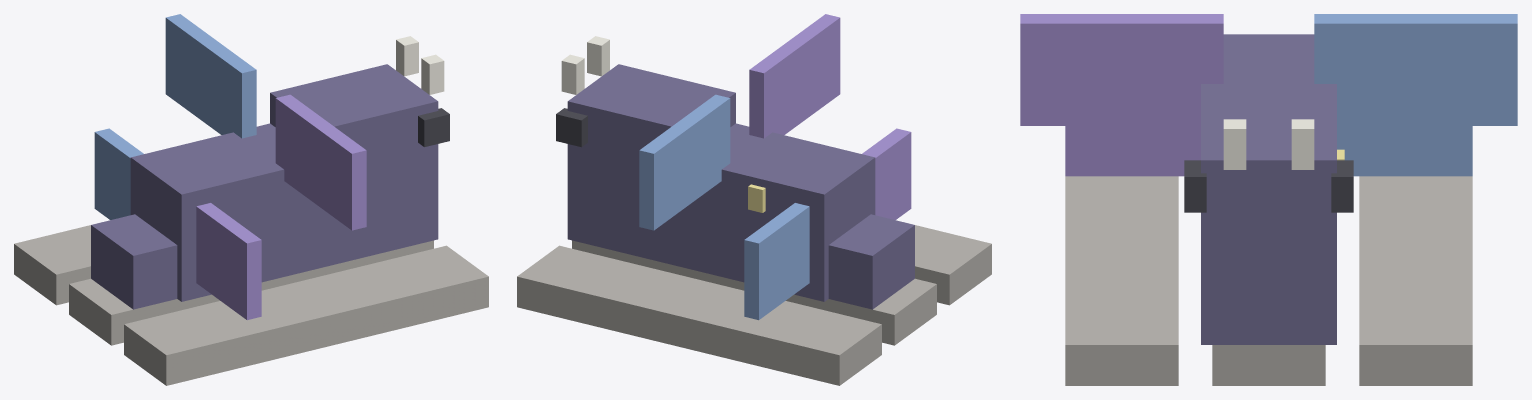
Rendered from 36-Fauna_mariposa.glb.
The picture shows the model from 3 angles, left to right: view 1: azimuth 30°, elevation 25°; view 2: azimuth 150°, elevation 25°; view 3: azimuth 270°, elevation 25°; orthographic projection. The views are drawn at different scales.
Visible parts, largest first — view 1: SM_Mariposa_Cuerpo_NOFUNDIR, SM_Mariposa_Rodela_NOFUNDIR, SM_Mariposa_Ala_L_NOFUNDIR, SM_Mariposa_Ala_R_NOFUNDIR, SM_Mariposa_M_Mariposa_Antena, SM_Mariposa_M_Mariposa_Ojo; view 2: SM_Mariposa_Cuerpo_NOFUNDIR, SM_Mariposa_Rodela_NOFUNDIR, SM_Mariposa_Ala_R_NOFUNDIR, SM_Mariposa_Ala_L_NOFUNDIR, SM_Mariposa_M_Mariposa_Antena, SM_Mariposa_M_Mariposa_Ojo, SM_Mariposa_M_Mariposa_Mancha; view 3: SM_Mariposa_Rodela_NOFUNDIR, SM_Mariposa_Cuerpo_NOFUNDIR, SM_Mariposa_Ala_L_NOFUNDIR, SM_Mariposa_Ala_R_NOFUNDIR, SM_Mariposa_M_Mariposa_Antena, SM_Mariposa_M_Mariposa_Ojo.
Boxes of the visible parts, left/top/right/bottom form: SM_Mariposa_Cuerpo_NOFUNDIR: left=91, top=64, right=438, bottom=309; SM_Mariposa_Rodela_NOFUNDIR: left=14, top=225, right=488, bottom=385; SM_Mariposa_Ala_L_NOFUNDIR: left=196, top=94, right=366, bottom=320; SM_Mariposa_Ala_R_NOFUNDIR: left=94, top=14, right=256, bottom=219; SM_Mariposa_M_Mariposa_Antena: left=396, top=36, right=444, bottom=94; SM_Mariposa_M_Mariposa_Ojo: left=418, top=108, right=449, bottom=147; SM_Mariposa_Cuerpo_NOFUNDIR: left=567, top=64, right=914, bottom=309; SM_Mariposa_Rodela_NOFUNDIR: left=517, top=225, right=991, bottom=385; SM_Mariposa_Ala_R_NOFUNDIR: left=639, top=94, right=809, bottom=320; SM_Mariposa_Ala_L_NOFUNDIR: left=749, top=14, right=911, bottom=219; SM_Mariposa_M_Mariposa_Antena: left=561, top=36, right=609, bottom=94; SM_Mariposa_M_Mariposa_Ojo: left=556, top=108, right=587, bottom=147; SM_Mariposa_M_Mariposa_Mancha: left=748, top=184, right=765, bottom=212; SM_Mariposa_Rodela_NOFUNDIR: left=1065, top=176, right=1472, bottom=385; SM_Mariposa_Cuerpo_NOFUNDIR: left=1201, top=34, right=1336, bottom=344; SM_Mariposa_Ala_L_NOFUNDIR: left=1020, top=14, right=1223, bottom=176; SM_Mariposa_Ala_R_NOFUNDIR: left=1314, top=14, right=1517, bottom=176; SM_Mariposa_M_Mariposa_Antena: left=1223, top=119, right=1314, bottom=169; SM_Mariposa_M_Mariposa_Ojo: left=1184, top=160, right=1353, bottom=212.
Size of the model in its own units: 0.46 by 0.265 by 0.44.
